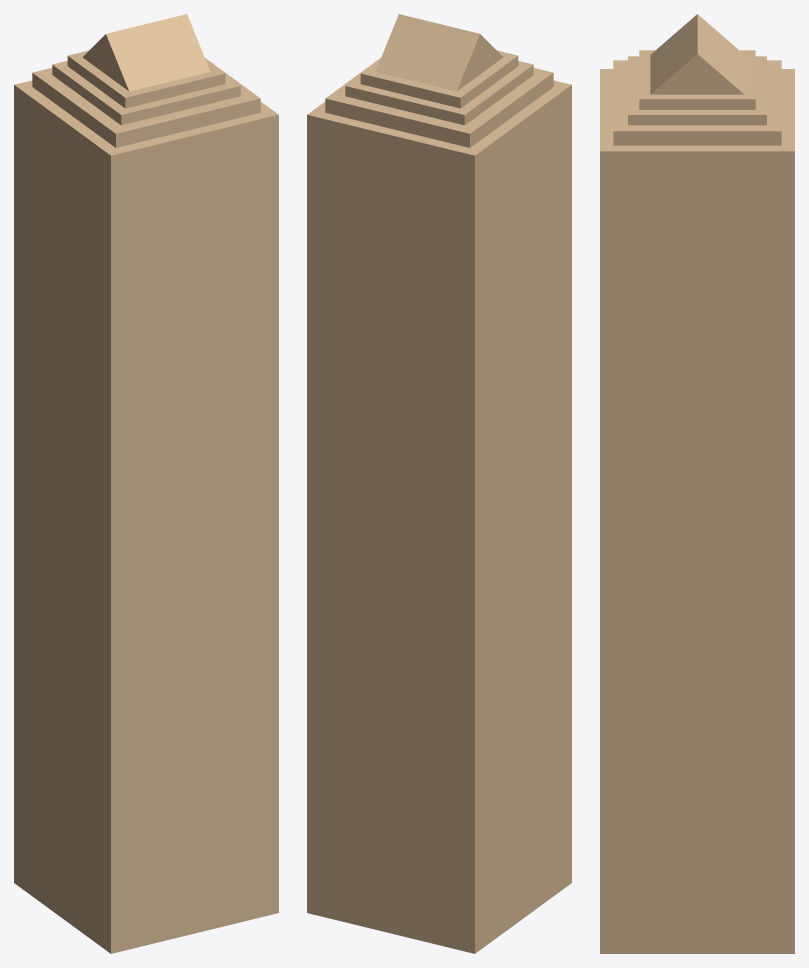
File: skyscrapper_1.fbx
3 renders of one model, left to right at view 1: azimuth 30°, elevation 25°; view 2: azimuth 150°, elevation 25°; view 3: azimuth 270°, elevation 25°, orthographic.
Parts seen in each view (by area): view 1: skyscraper_1; view 2: skyscraper_1; view 3: skyscraper_1.
Boxes of the visible parts, x1,y1,x2,y2 form: skyscraper_1: (14,14,278,953); skyscraper_1: (307,14,571,953); skyscraper_1: (600,14,794,953).
Size of the model in its own units: 22.63 by 113 by 22.63.
